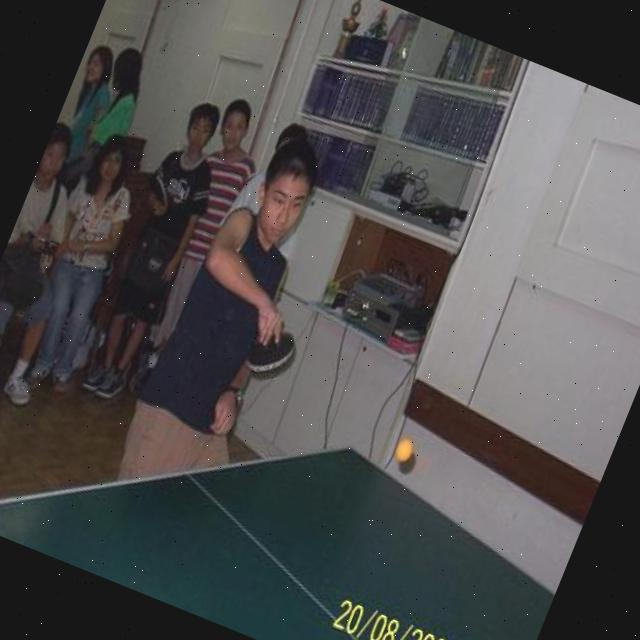ping-pong-ball: (389, 432, 416, 466)
